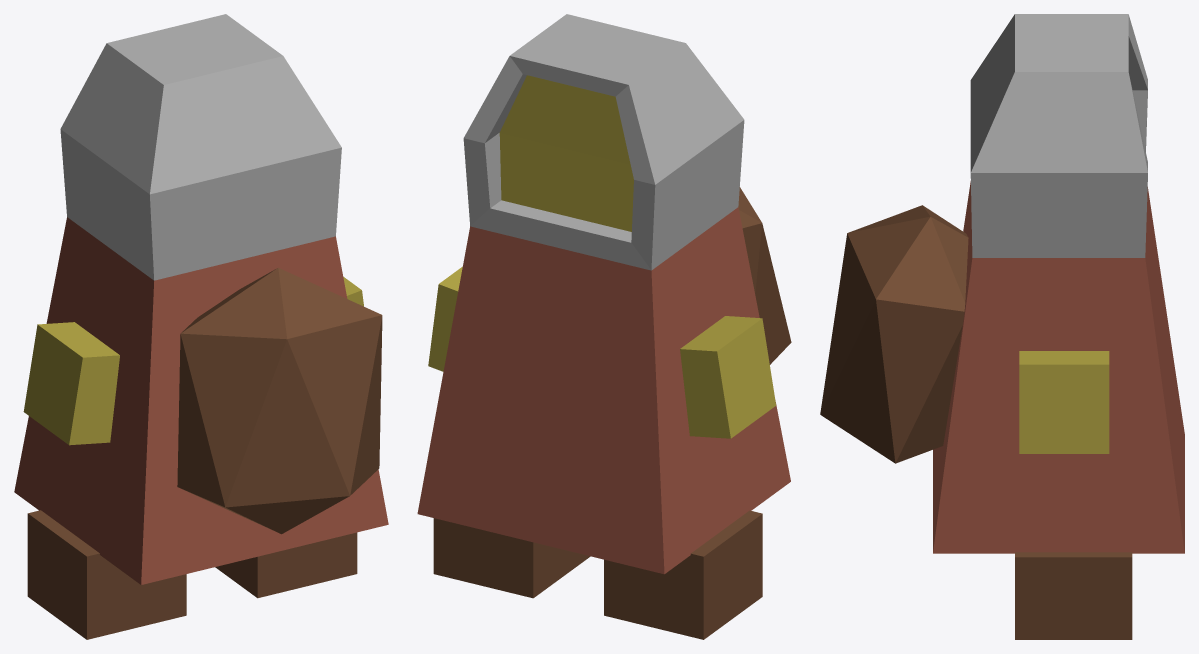
The model's file is climber.glb.
3 views of the same model, side by side, from view 1: azimuth 30°, elevation 25°; view 2: azimuth 150°, elevation 25°; view 3: azimuth 270°, elevation 25° (orthographic).
Parts seen in each view (by area): view 1: HeadAndBody, Backpack, LeftFoot, LeftHand, RightFoot; view 2: HeadAndBody, LeftFoot, LeftHand, RightFoot, Backpack, RightHand; view 3: HeadAndBody, Backpack, RightFoot, RightHand.
Boxes of the visible parts, box(x1,y1,x2,y2) form: HeadAndBody: box(14, 14, 388, 584); Backpack: box(177, 267, 382, 534); LeftFoot: box(27, 510, 186, 639); LeftHand: box(23, 322, 119, 445); RightFoot: box(215, 532, 357, 598); HeadAndBody: box(417, 14, 790, 574); LeftFoot: box(604, 510, 762, 639); LeftHand: box(680, 316, 776, 438); RightFoot: box(433, 518, 590, 598); Backpack: box(738, 187, 791, 364); RightHand: box(428, 267, 462, 371); HeadAndBody: box(933, 14, 1184, 553); Backpack: box(820, 205, 968, 463); RightFoot: box(1015, 552, 1132, 639); RightHand: box(1019, 351, 1109, 453).
Size of the model in its own units: 0.3549 by 0.5993 by 0.3722.
